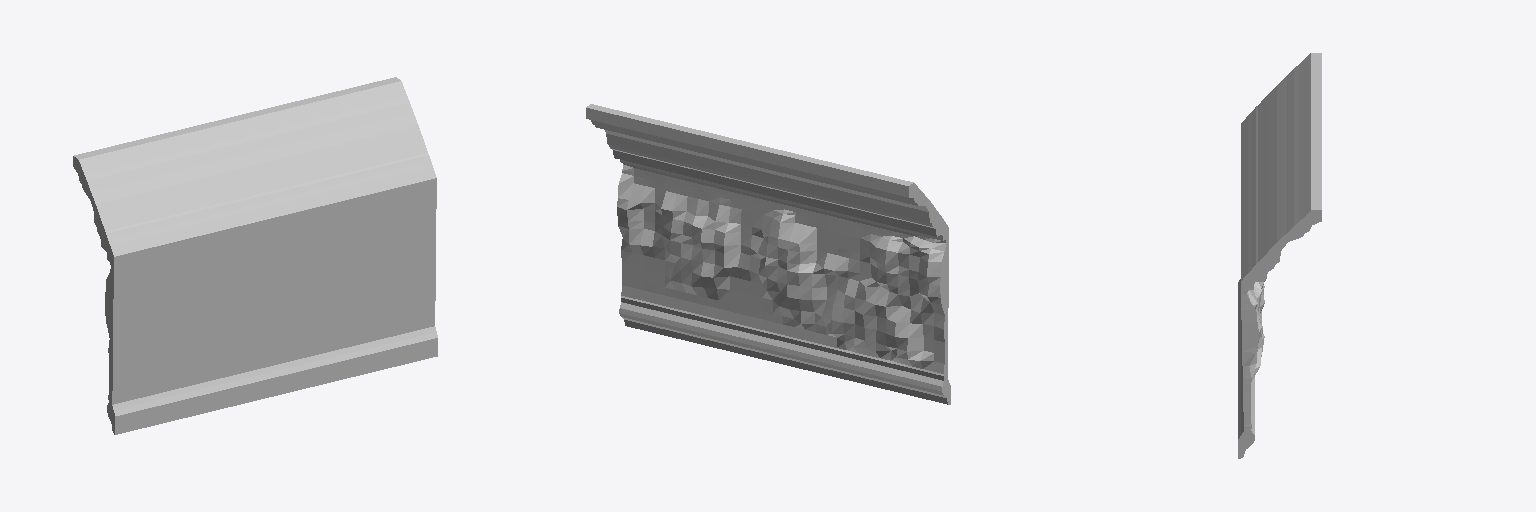
The model's file is toptrim.obj.
The picture shows the model from 3 angles: view 1: azimuth 30°, elevation 25°; view 2: azimuth 150°, elevation 25°; view 3: azimuth 270°, elevation 25°; orthographic projection.
Parts seen in each view (by area): view 1: obj1; view 2: obj1; view 3: obj1.
Part boxes in pixels (x1,y1,x2,y2): obj1: (73, 77, 437, 434); obj1: (586, 104, 950, 404); obj1: (1238, 53, 1321, 458).
Size of the model in its own units: 14.79 by 10.88 by 3.33.